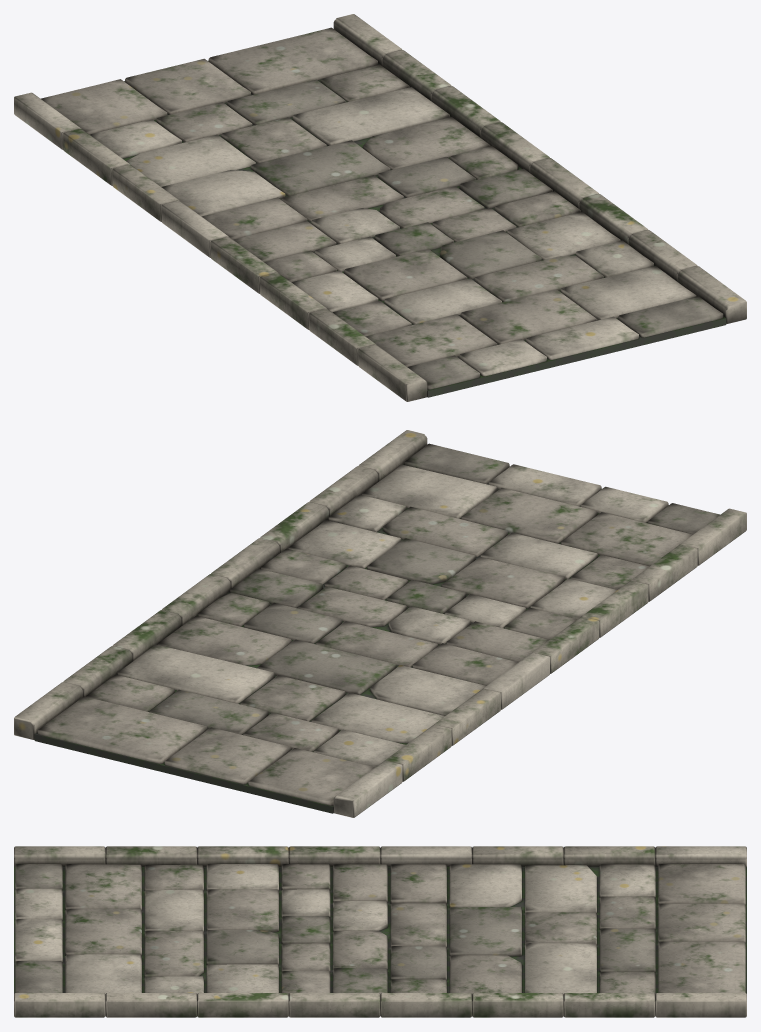
The model's file is FlagWalk16.fbx.
The picture shows the model from 3 angles, top to bottom: view 1: azimuth 30°, elevation 25°; view 2: azimuth 150°, elevation 25°; view 3: azimuth 270°, elevation 25°; orthographic projection. The views are drawn at different scales.
Parts seen in each view (by area): view 1: FlagWalk16; view 2: FlagWalk16; view 3: FlagWalk16.
Part boxes in pixels (x1,y1,x2,y2): FlagWalk16: [14, 14, 746, 401]; FlagWalk16: [14, 430, 746, 817]; FlagWalk16: [14, 846, 746, 1017].
Size of the model in its own units: 800 by 42 by 1600.
